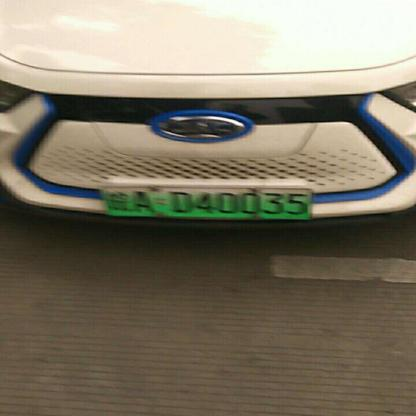lp: (101, 187, 310, 218)
